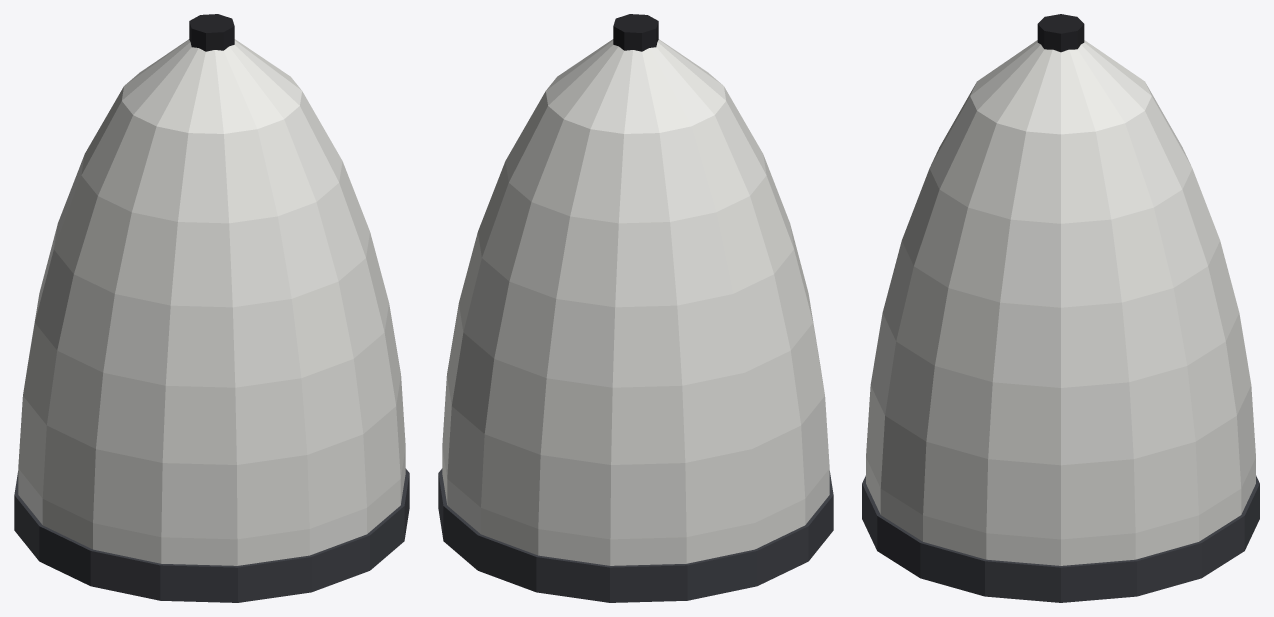
The model's file is Head_Nose_M.fbx.
3 renders of one model, left to right at view 1: azimuth 30°, elevation 25°; view 2: azimuth 150°, elevation 25°; view 3: azimuth 270°, elevation 25°, orthographic.
Parts seen in each view (by area): view 1: Head_Nose_M; view 2: Head_Nose_M; view 3: Head_Nose_M.
Part boxes in pixels (box(x1,y1,x2,y2)): Head_Nose_M: box(14, 14, 409, 602); Head_Nose_M: box(438, 14, 833, 602); Head_Nose_M: box(862, 14, 1259, 602).
Size of the model in its own units: 2.04 by 2.8 by 2.04.
Materials: 1 (1 with a texture image).
